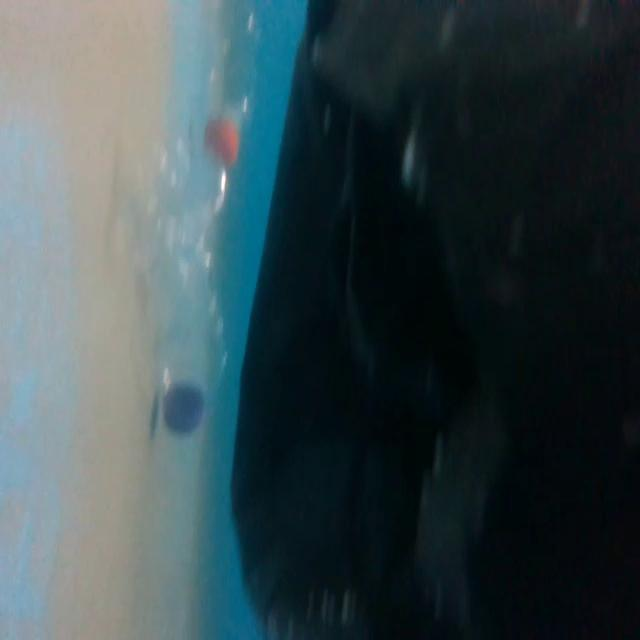plastic bags: (233, 1, 640, 639)
plastic bottle: (141, 145, 231, 456), (205, 0, 261, 156)
